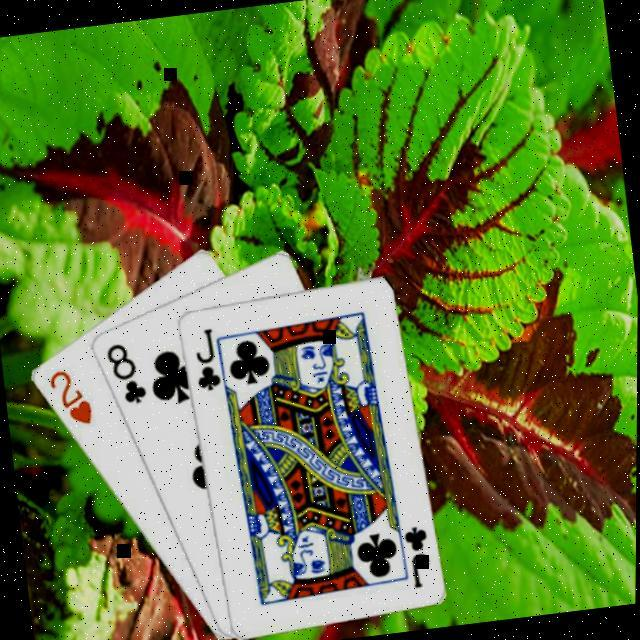2H: (45, 361, 97, 430)
8C: (102, 336, 152, 408)
JC: (188, 322, 225, 393), (400, 519, 437, 590)
